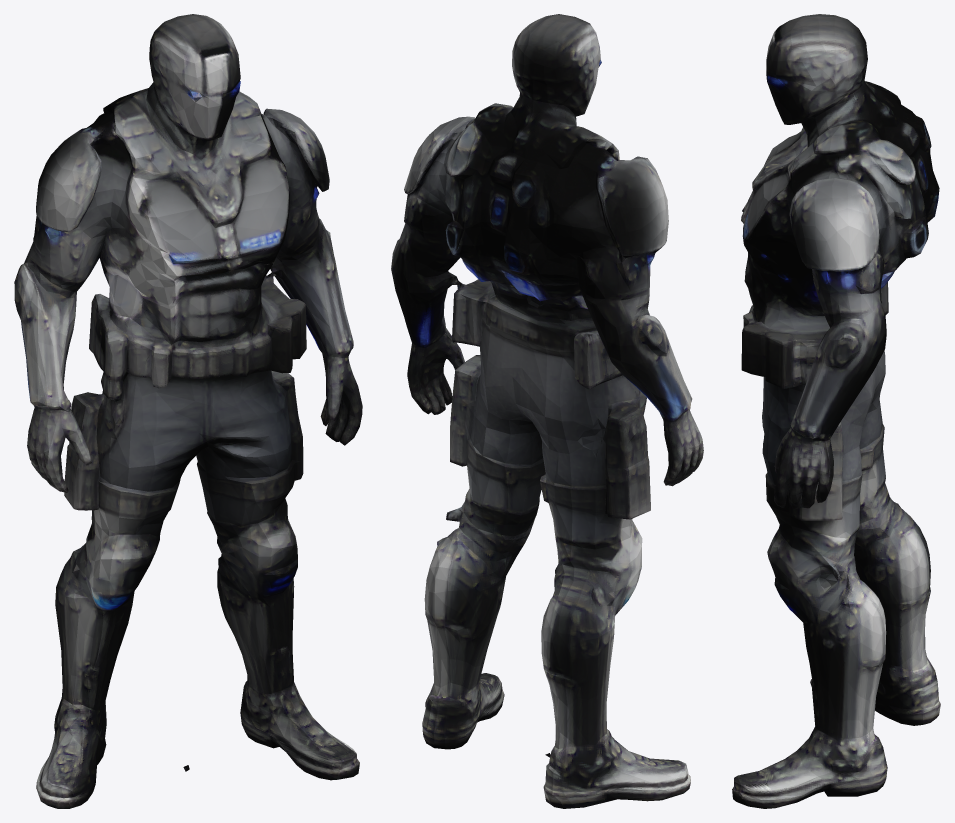
The model's file is sample.glb.
3 views of the same model, side by side, from view 1: azimuth 30°, elevation 25°; view 2: azimuth 150°, elevation 25°; view 3: azimuth 270°, elevation 25° (orthographic). The views are drawn at different scales.
Visible parts, largest first — view 1: world; view 2: world; view 3: world.
Part boxes in pixels (box(x1,y1,x2,y2)): world: box(14, 14, 362, 808); world: box(391, 14, 703, 808); world: box(732, 14, 940, 808).
Size of the model in its own units: 0.4225 by 1 by 0.2592.
Materials: 1 (1 with a texture image).
